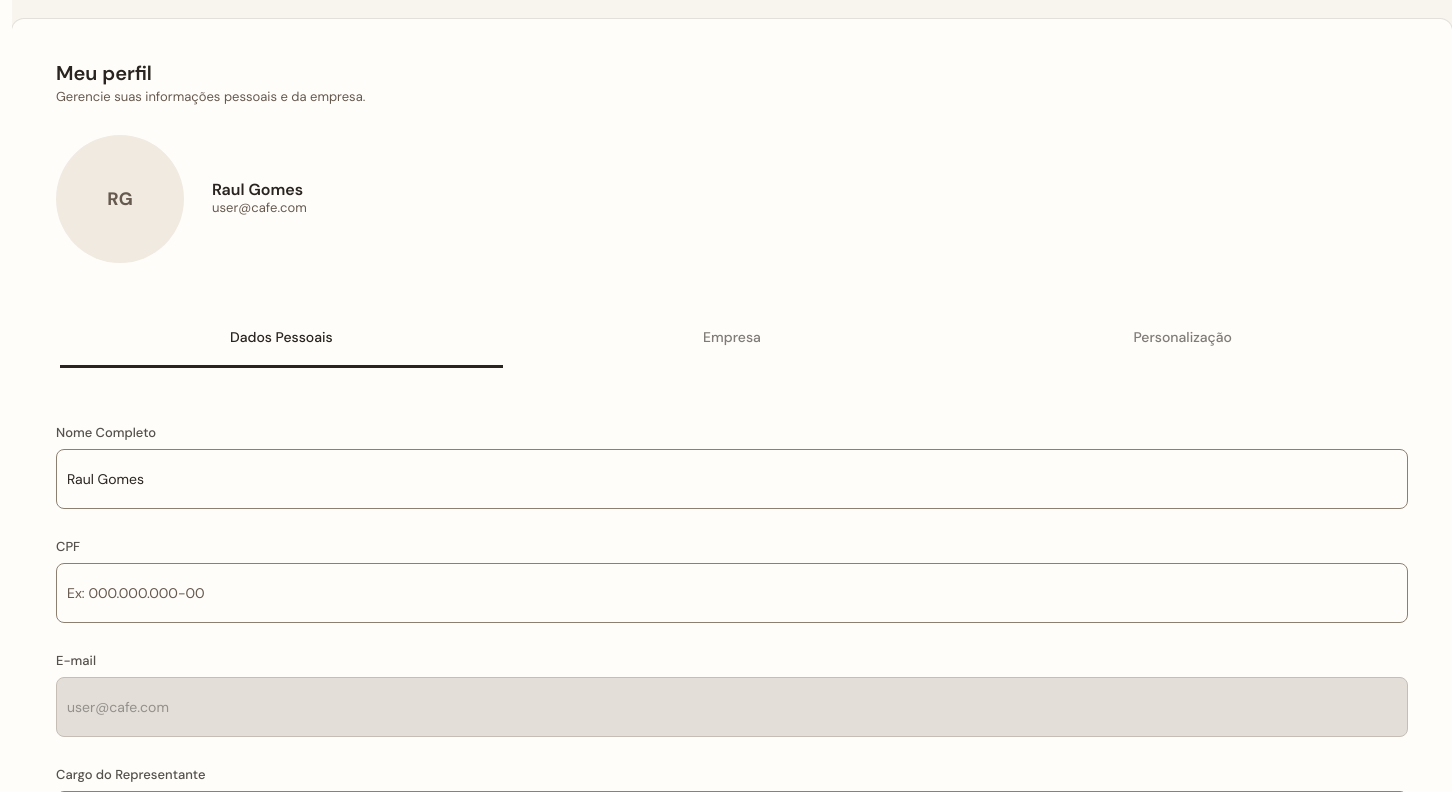
Scenario: PerfilPage › shows company color code field in Personalização tab
Expected: the field showing "Raul Gomes" below "Nome Completo" is shown, x1=56 y1=449 x2=1408 y2=509
Click the tab "Personalização".
click(1183, 337)  # box x1=960 y1=311 x2=1405 y2=364
(page scrolled)
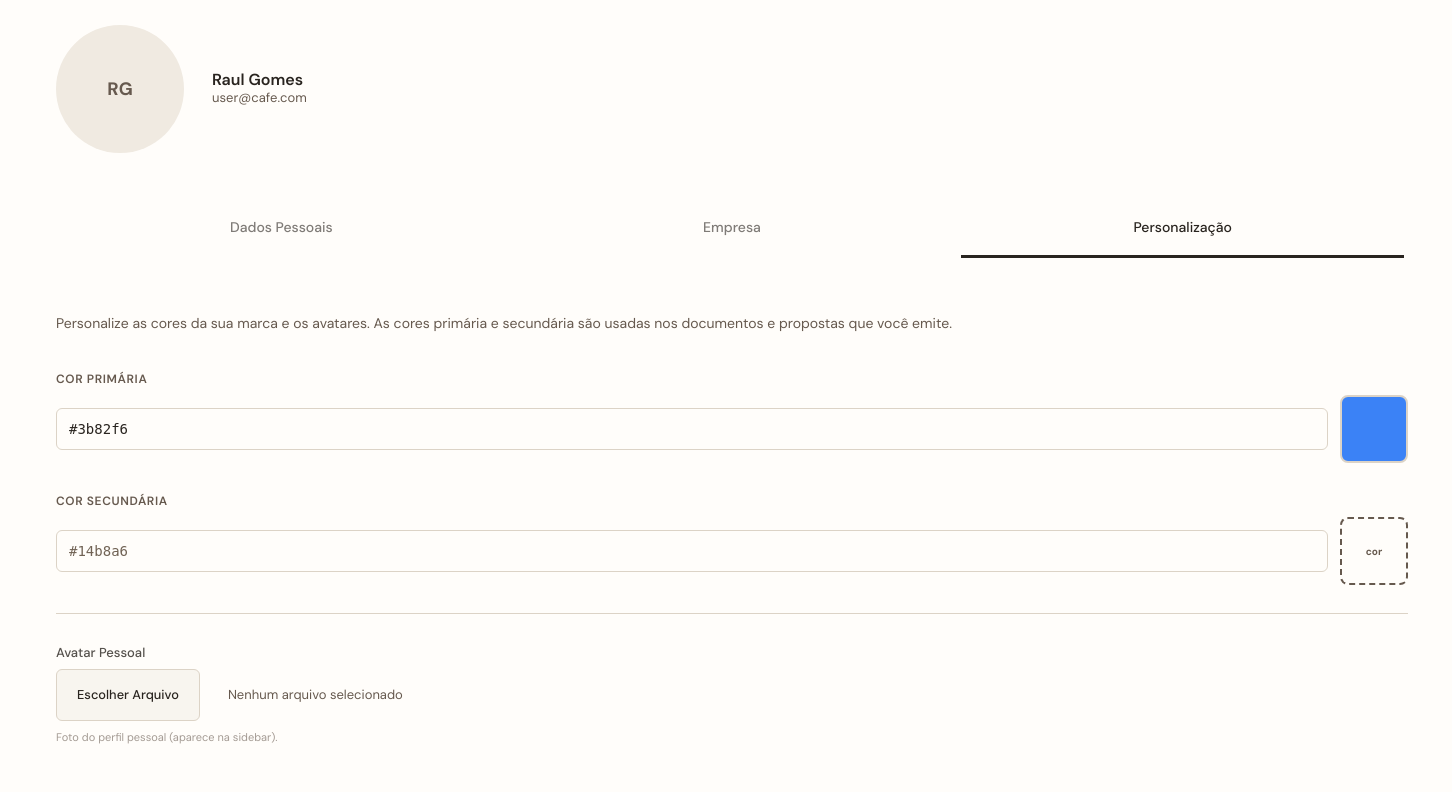
Expected: the field showing "#3b82f6" is shown, x1=56 y1=408 x2=1328 y2=450
